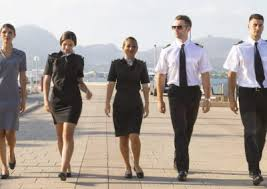F_dress pants: (165, 80, 199, 168), (238, 83, 267, 174)
F_shirt: (151, 34, 215, 90), (219, 36, 267, 84)
F_tailored skirt: (111, 87, 145, 137), (48, 82, 84, 124)
